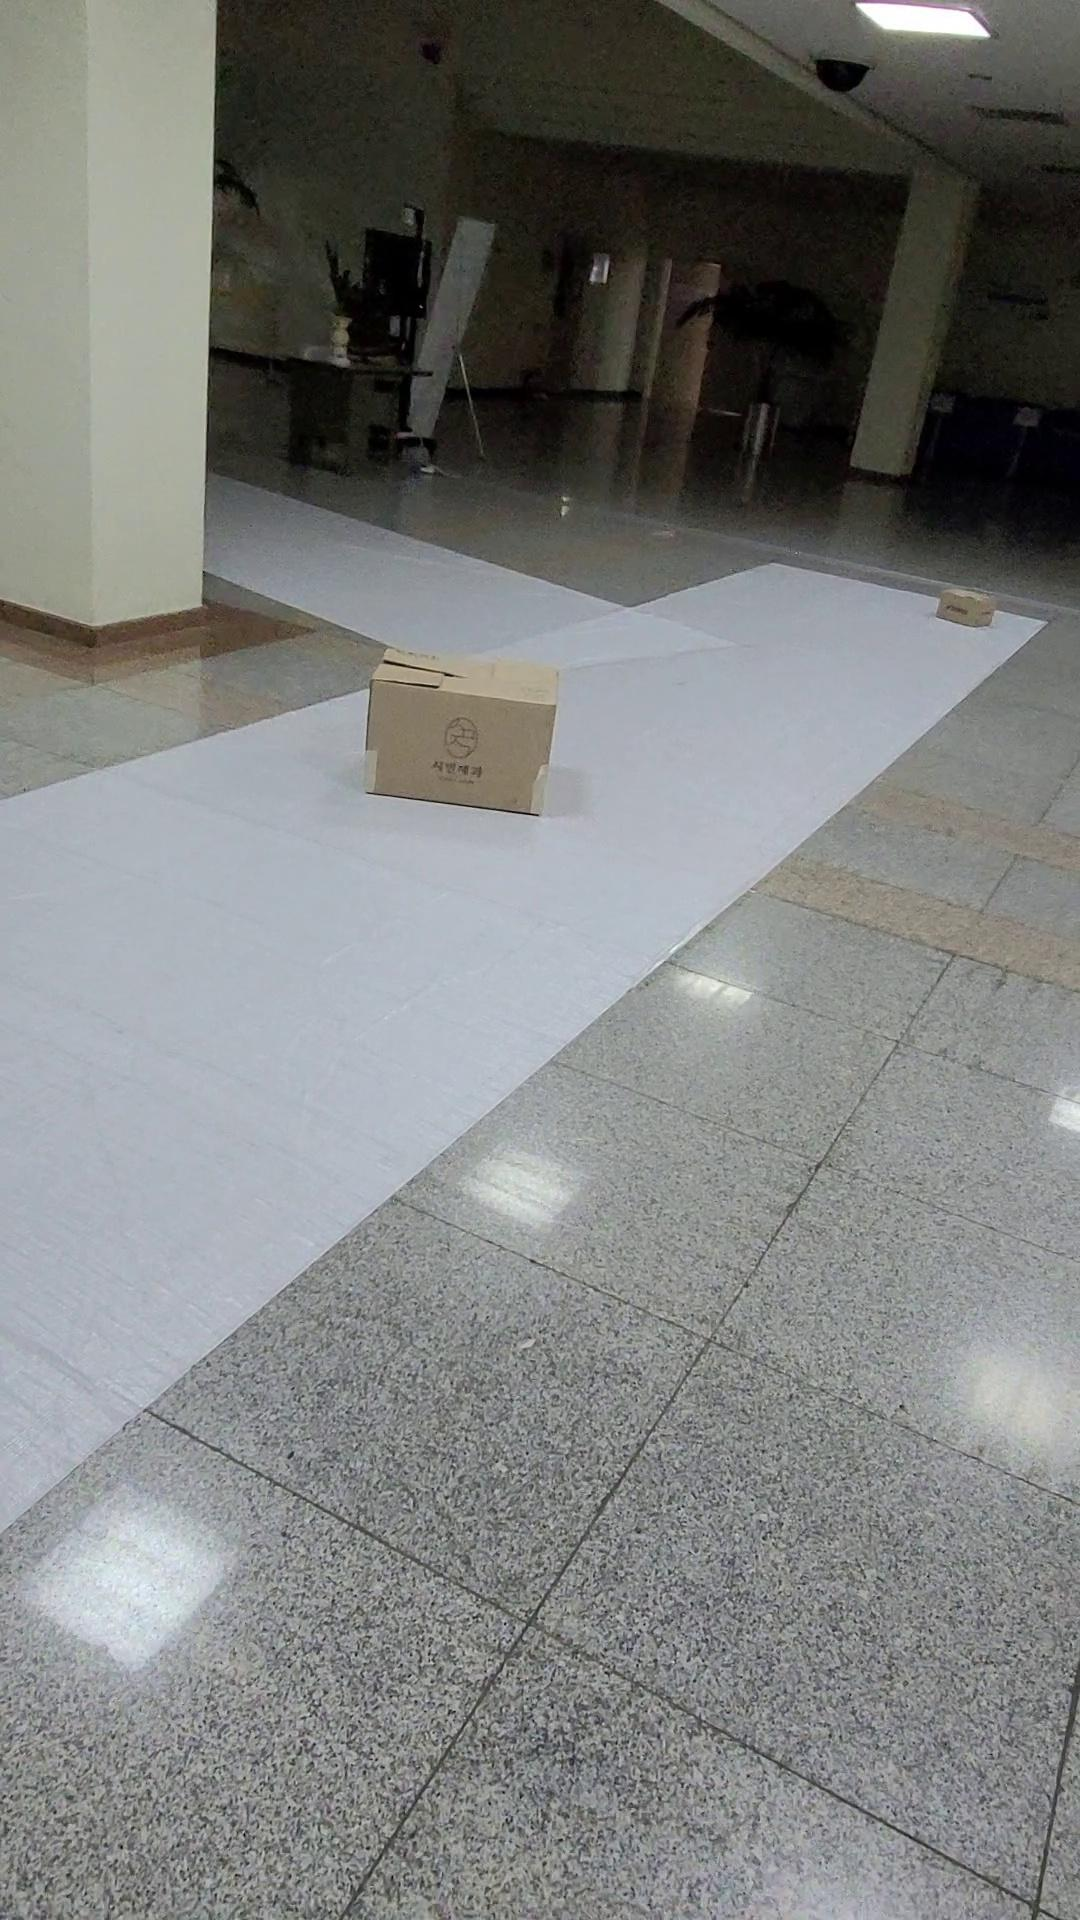Box: (316, 636, 580, 835), (906, 560, 1010, 676)
